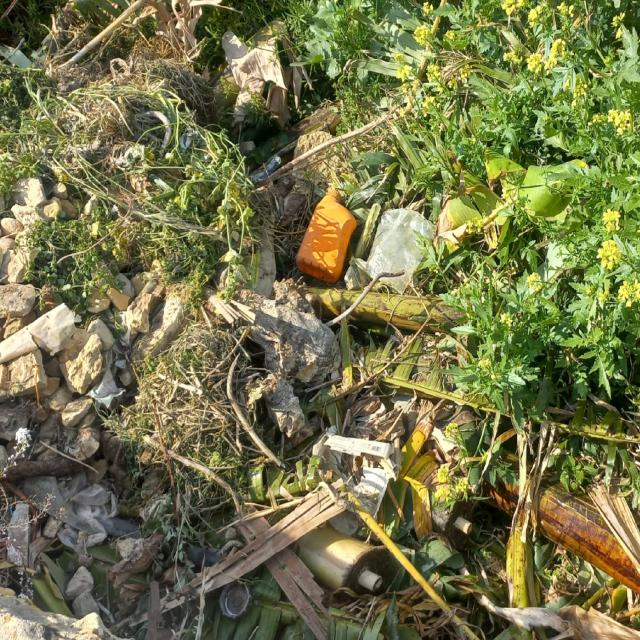Other litter: (290, 527, 390, 597), (220, 29, 291, 127), (311, 434, 390, 518), (250, 156, 282, 183), (179, 127, 199, 150), (455, 517, 473, 535)
Other plastic: (354, 209, 437, 296), (104, 517, 224, 571), (294, 188, 357, 284), (0, 302, 82, 364), (84, 312, 132, 412), (218, 579, 253, 619), (329, 512, 357, 537)
Plastic bag - wrapper: (9, 472, 121, 550)
